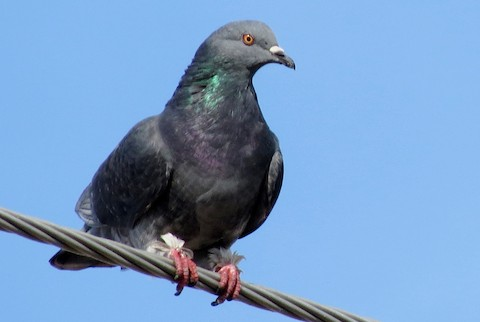pigeon: (46, 17, 300, 309)
